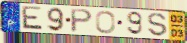9: (45, 6, 65, 33), (125, 11, 144, 37)
E: (21, 5, 45, 32)
O: (95, 10, 116, 35)
P: (70, 8, 94, 34)
S: (146, 12, 169, 38)
